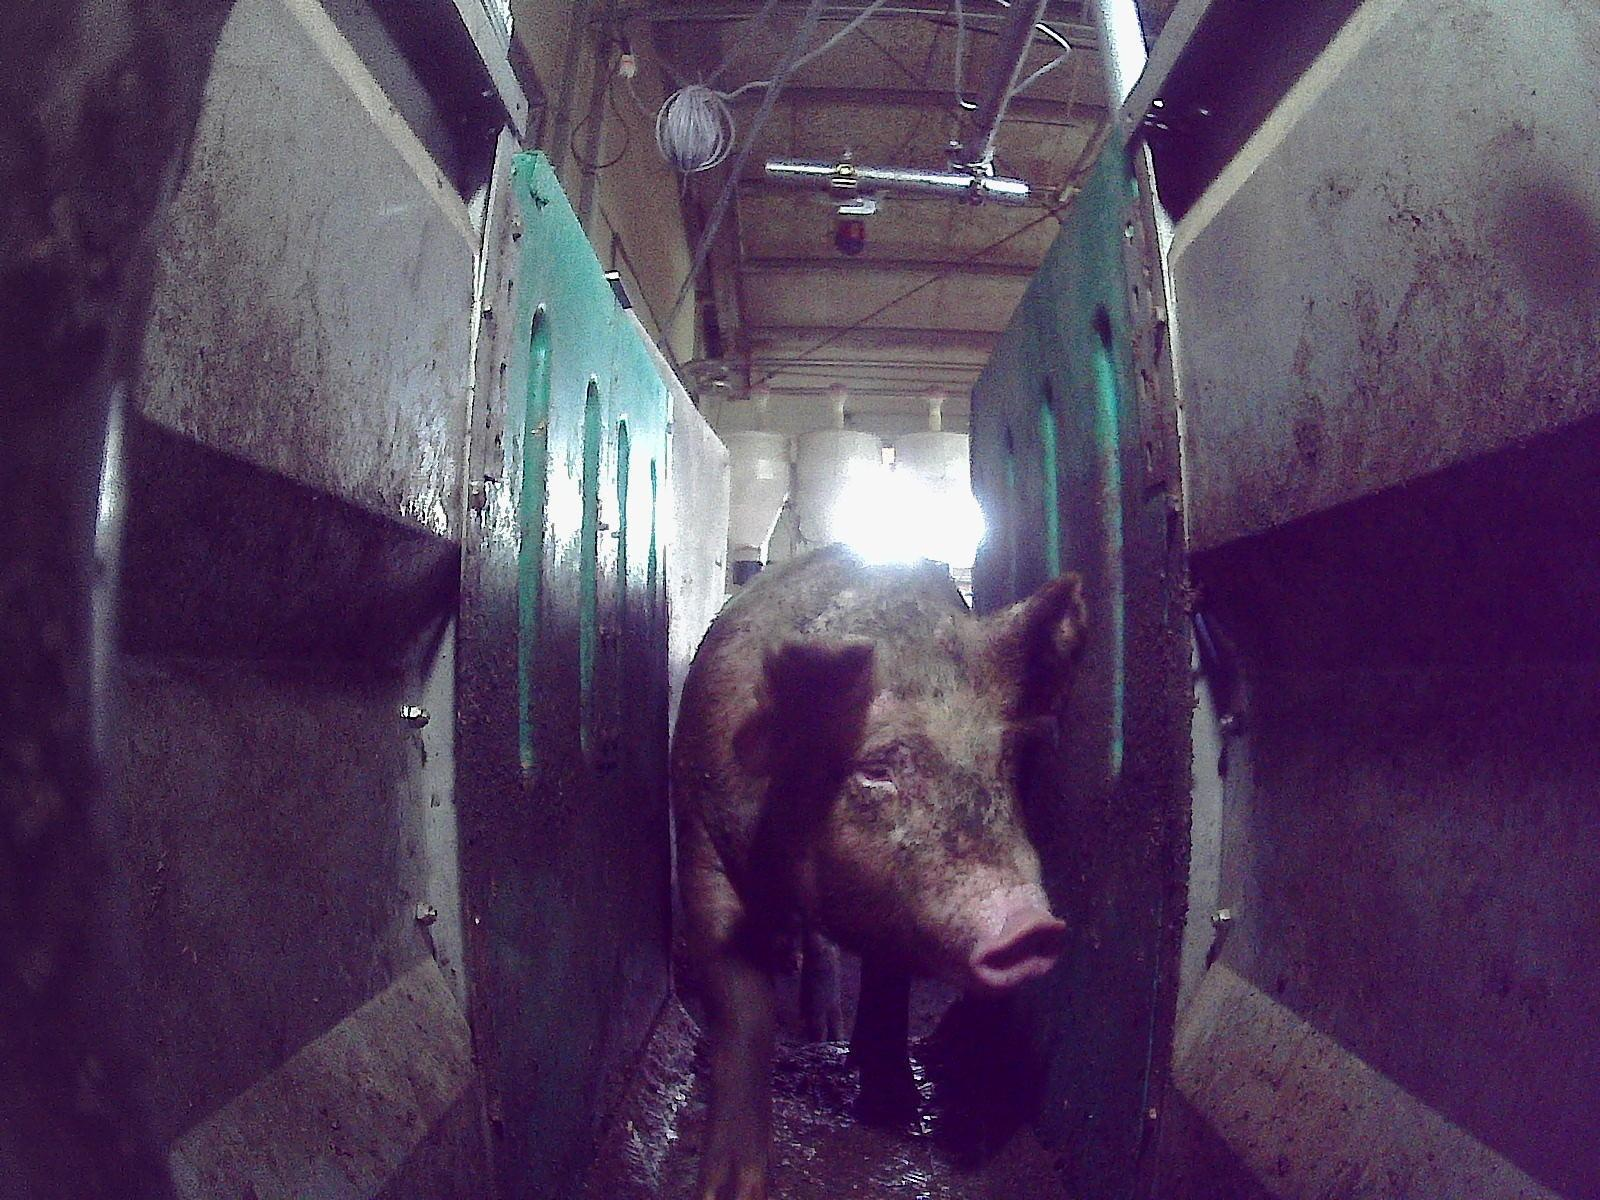Face: (807, 618, 1070, 995)
